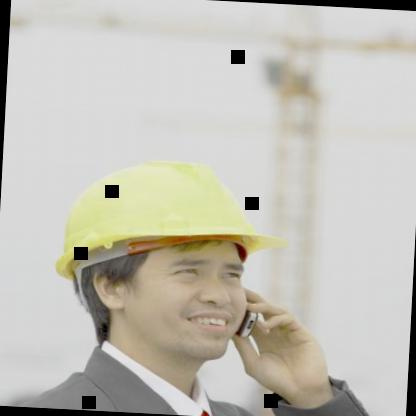helmet: (25, 121, 296, 382)
